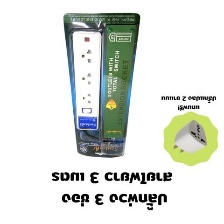book: (61, 10, 142, 161)
three_eye_plug: (67, 26, 104, 133), (169, 118, 212, 155)
